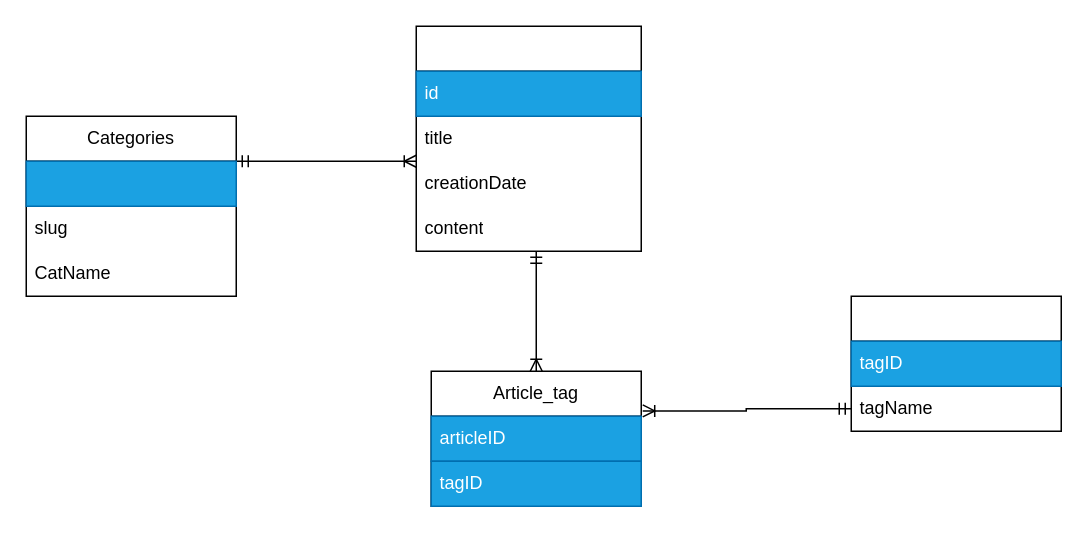
Some shapes in this 1088 by 533 pixel diagram are drawn without their labels. Each missing label, with the box of its shape:
Articles: (415, 25, 641, 251)
CatID: (25, 160, 236, 206)
Tags: (850, 295, 1061, 431)
